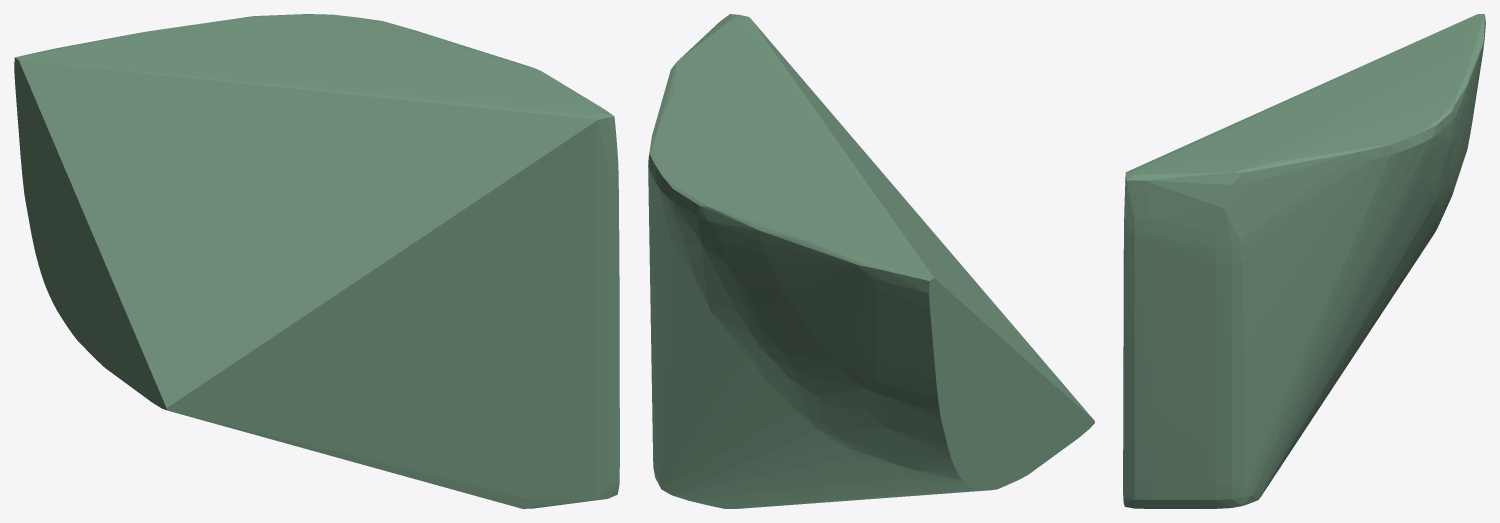
3 renders of one model, left to right at view 1: azimuth 30°, elevation 25°; view 2: azimuth 150°, elevation 25°; view 3: azimuth 270°, elevation 25°, orthographic. The views are drawn at different scales.
Size of the model in its own units: 0.0503 by 0.0467 by 0.0458.
